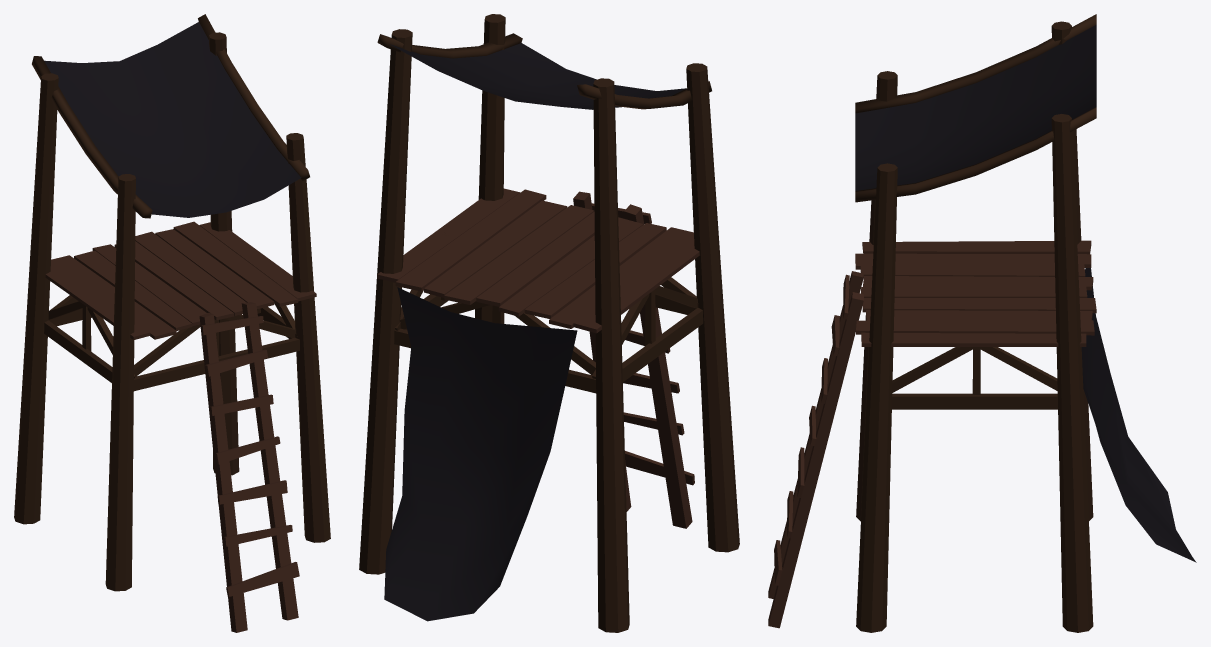
The model's file is Assets - WatchTower1.0 .fbx.
3 renders of one model, left to right at view 1: azimuth 30°, elevation 25°; view 2: azimuth 150°, elevation 25°; view 3: azimuth 270°, elevation 25°, orthographic. The views are drawn at different scales.
Parts seen in each view (by area): view 1: Building Fabric basic.011, Wood Pilar.008, Wood Floor.021, Wood Fence .002, Wood Stand.009; view 2: Wood Pilar.008, Building Fabric basic.012, Wood Floor.021, Building Fabric basic.011, Wood Fence .002, Wood Stand.009; view 3: Wood Pilar.008, Building Fabric basic.011, Wood Floor.021, Wood Fence .002, Building Fabric basic.012, Wood Stand.009.
Part boxes in pixels (<box>): Building Fabric basic.011: <box>32,14,309,218</box>; Wood Pilar.008: <box>14,32,330,591</box>; Wood Floor.021: <box>45,221,316,339</box>; Wood Fence .002: <box>199,302,299,632</box>; Wood Stand.009: <box>44,295,299,391</box>; Wood Pilar.008: <box>359,14,739,632</box>; Building Fabric basic.012: <box>384,287,577,621</box>; Wood Floor.021: <box>377,188,699,333</box>; Building Fabric basic.011: <box>377,33,711,109</box>; Wood Fence .002: <box>573,191,694,528</box>; Wood Stand.009: <box>394,277,703,393</box>; Wood Pilar.008: <box>856,21,1093,632</box>; Building Fabric basic.011: <box>855,14,1096,202</box>; Wood Floor.021: <box>855,240,1096,346</box>; Wood Fence .002: <box>768,271,863,628</box>; Building Fabric basic.012: <box>1081,268,1196,562</box>; Wood Stand.009: <box>891,347,1057,409</box>.
Bounding box in the file's own units: 960 × 2007 × 1420.
